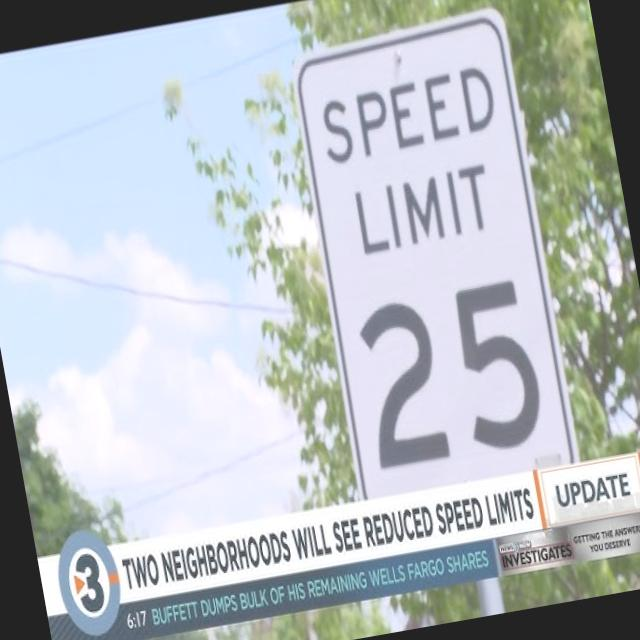Speed Limit Signs: (280, 5, 582, 501)
